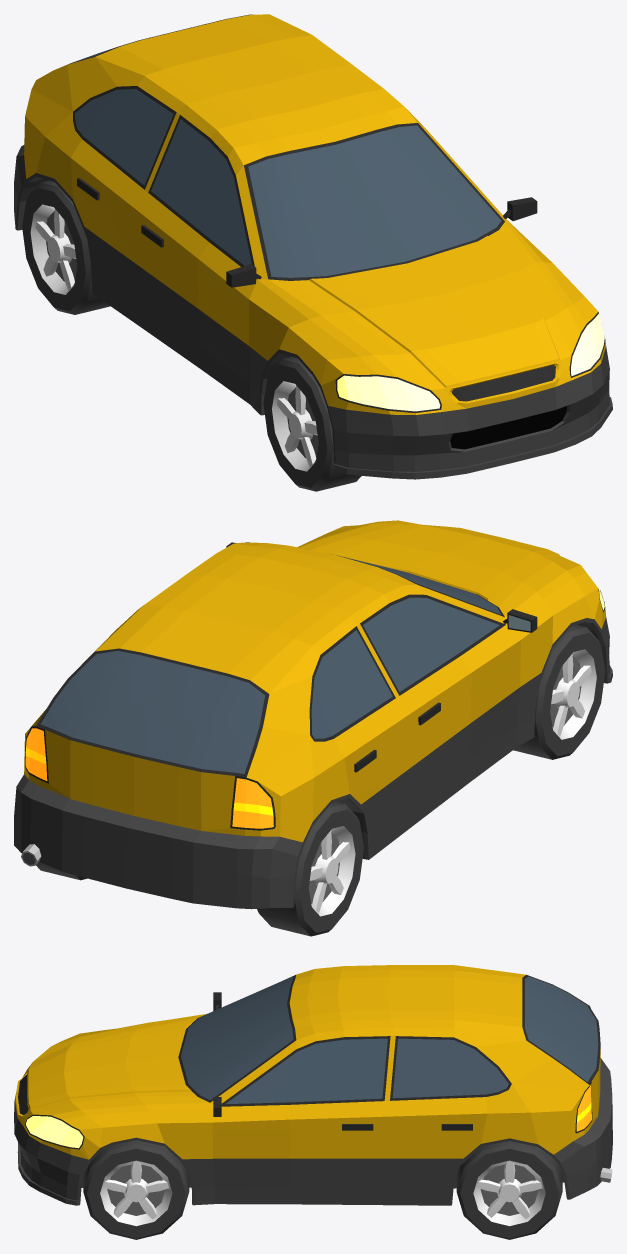
Rendered from Hatchback_Car_15.glb.
3 renders of one model, top to bottom at view 1: azimuth 30°, elevation 25°; view 2: azimuth 150°, elevation 25°; view 3: azimuth 270°, elevation 25°, orthographic. The views are drawn at different scales.
Parts seen in each view (by area): view 1: Hatchback Car_15, Hatchback Car_15 FR Tire, Hatchback Car_15 BR Tire; view 2: Hatchback Car_15, Hatchback Car_15 BR Tire, Hatchback Car_15 FR Tire; view 3: Hatchback Car_15, Hatchback Car_15 BL Tire, Hatchback Car_15 FL Tire.
Part boxes in pixels (x1=…): Hatchback Car_15: x1=14, y1=14, x2=612, y2=479; Hatchback Car_15 FR Tire: x1=263, y1=356, x2=361, y2=491; Hatchback Car_15 BR Tire: x1=22, y1=180, x2=110, y2=314; Hatchback Car_15: x1=14, y1=520, x2=612, y2=909; Hatchback Car_15 BR Tire: x1=257, y1=802, x2=363, y2=936; Hatchback Car_15 FR Tire: x1=513, y1=624, x2=605, y2=759; Hatchback Car_15: x1=14, y1=965, x2=612, y2=1205; Hatchback Car_15 BL Tire: x1=456, y1=1141, x2=562, y2=1239; Hatchback Car_15 FL Tire: x1=83, y1=1140, x2=189, y2=1239.
Size of the model in its own units: 2.02 by 1.59 by 4.43.
Materials: 2 (2 with a texture image).
